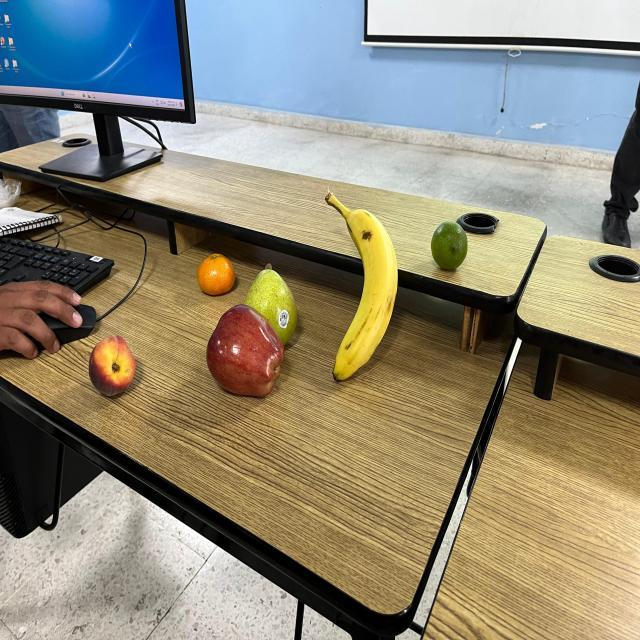Apel Merah: (205, 300, 289, 402)
Jeruk Mandarin: (196, 248, 237, 296)
Lemon: (429, 218, 472, 273)
Persik: (86, 333, 140, 400)
Pir: (242, 259, 302, 347)
Pisang: (324, 188, 401, 386)
